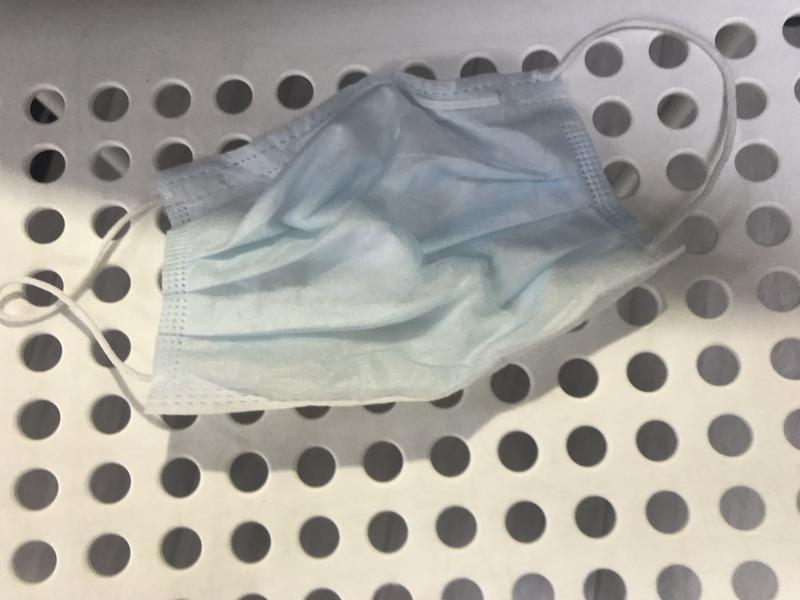medical_mask: (1, 19, 739, 412)
